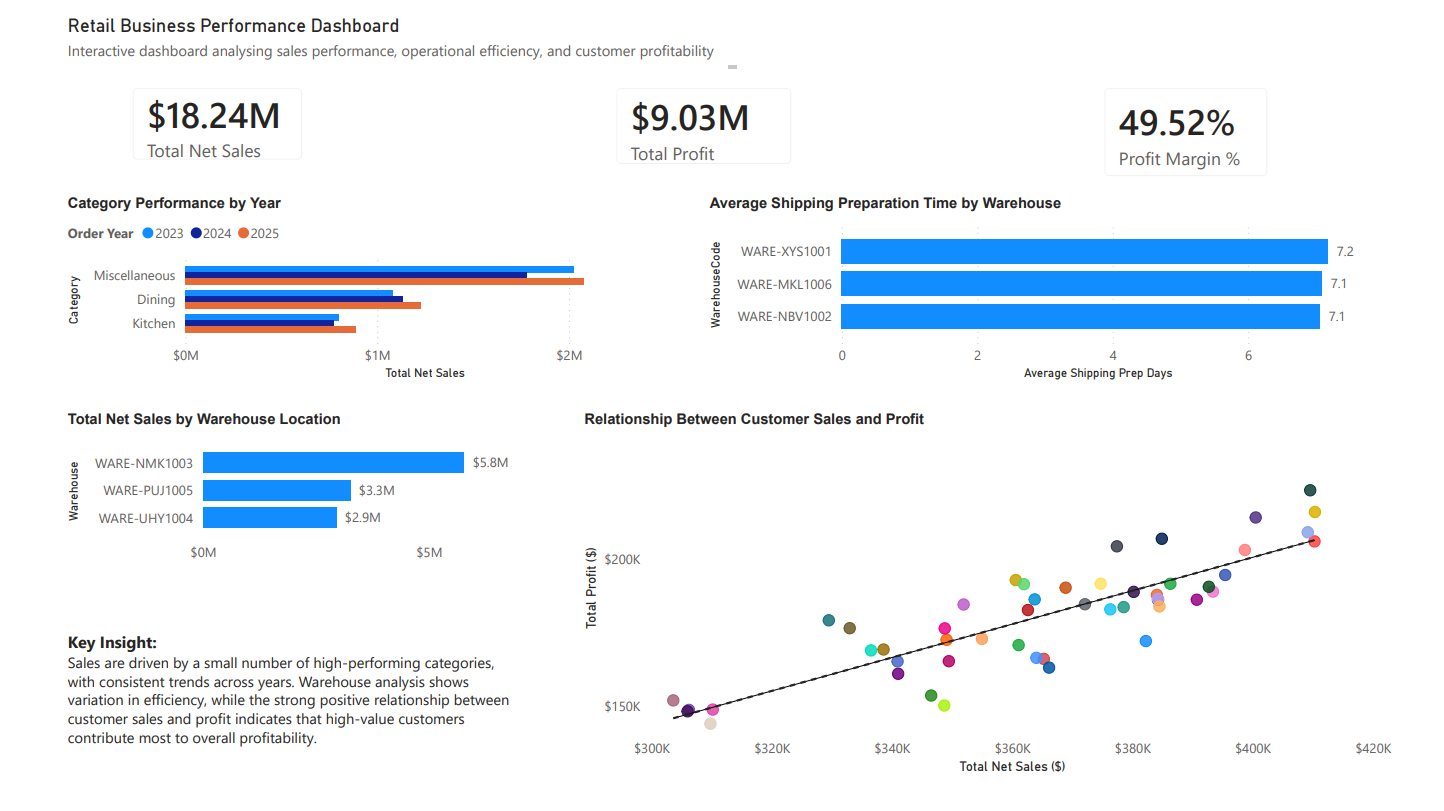

The dashboard page shown, as its layout file describes it:
{"tool":"powerbi","page":{"name":"Dashboard Overview","canvas":[1280,720],"ordinal":0},"visuals":[{"type":"textbox","title":"Retail Business Performance Dashboard","box":[39.9,0,619.1,64.2],"z":0},{"type":"cardVisual","fields":{"Data":["Sales Orders.Total Net Sales"]},"box":[86.6,49.6,188.8,99.3],"z":1000},{"type":"cardVisual","fields":{"Data":["Sales Orders.Total Profit"]},"box":[526.6,49.6,193.7,103.2],"z":2000},{"type":"cardVisual","fields":{"Data":["Sales Orders.Profit Margin %"]},"box":[971.4,49.6,182,113.9],"z":3000},{"type":"clusteredBarChart","title":"Category Performance by Year","fields":{"Category":["Products.Category"],"Y":["Sales Orders.Total Net Sales"],"Series":["Sales Orders.Order Year"]},"box":[39.9,163.5,565.5,173.3],"z":3001},{"type":"clusteredBarChart","title":"Average Shipping Preparation Time by Warehouse","fields":{"Y":["Sales Orders.Average Shipping Prep Days"],"Category":["Sales Orders.WarehouseCode"]},"box":[623.9,163.5,601.6,173.3],"z":3002},{"type":"clusteredBarChart","title":"Total Net Sales by Warehouse Location","fields":{"Y":["Sales Orders.Total Net Sales"],"Category":["Sales Orders.WarehouseCode"]},"box":[39.9,360.2,424.4,147],"z":3003},{"type":"scatterChart","title":"Relationship Between Customer Sales and Profit","fields":{"X":["Sales Orders.Total Net Sales"],"Y":["Sales Orders.Total Profit"],"Series":["Sales Orders._CustomerID"]},"box":[510.1,360.2,743.7,334.8],"z":3004},{"type":"textbox","box":[39.9,554.8,424.4,140.2],"z":3005}]}

Visuals, with their boxes in screenshot pixels (x1, y1, x2, y2), scaled from the page's 1280x720 canvas onto the 1444x811 screenshot:
"Retail Business Performance Dashboard" textbox: box=[45, 0, 743, 72]
cardVisual - Sales Orders.Total Net Sales: box=[98, 56, 311, 168]
cardVisual - Sales Orders.Total Profit: box=[594, 56, 813, 172]
cardVisual - Sales Orders.Profit Margin %: box=[1096, 56, 1301, 184]
"Category Performance by Year" clusteredBarChart: box=[45, 184, 683, 379]
"Average Shipping Preparation Time by Warehouse" clusteredBarChart: box=[704, 184, 1383, 379]
"Total Net Sales by Warehouse Location" clusteredBarChart: box=[45, 406, 524, 571]
"Relationship Between Customer Sales and Profit" scatterChart: box=[575, 406, 1414, 783]
textbox: box=[45, 625, 524, 783]
